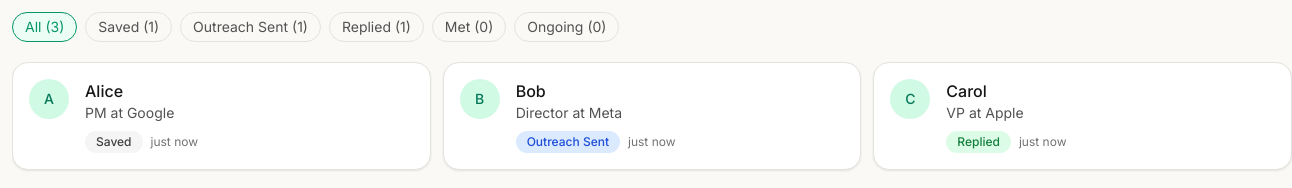
Test: ConnectionPipeline › filters connections when stage tab is clicked
The width and height of the screenshot is (1292, 188).
Click the button "Saved (1)" at (129, 27), box left=85, top=12, right=172, bottom=42
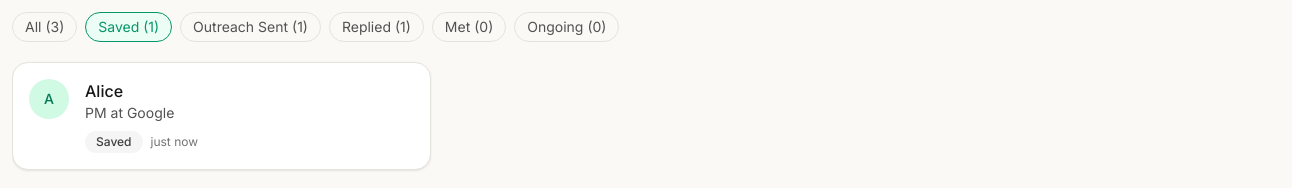
Check: the text "Alice" is shown, box left=85, top=79, right=123, bottom=103
Check: the link "Bob" is gone
Check: the link "Carol" is gone
